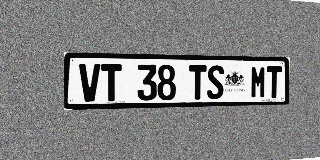3: (137, 64, 157, 101)
8: (157, 65, 176, 100)
M: (250, 66, 266, 98)
S: (207, 65, 224, 99)
T: (101, 64, 121, 101), (189, 65, 206, 100), (266, 66, 282, 98)
V: (79, 64, 100, 102)
